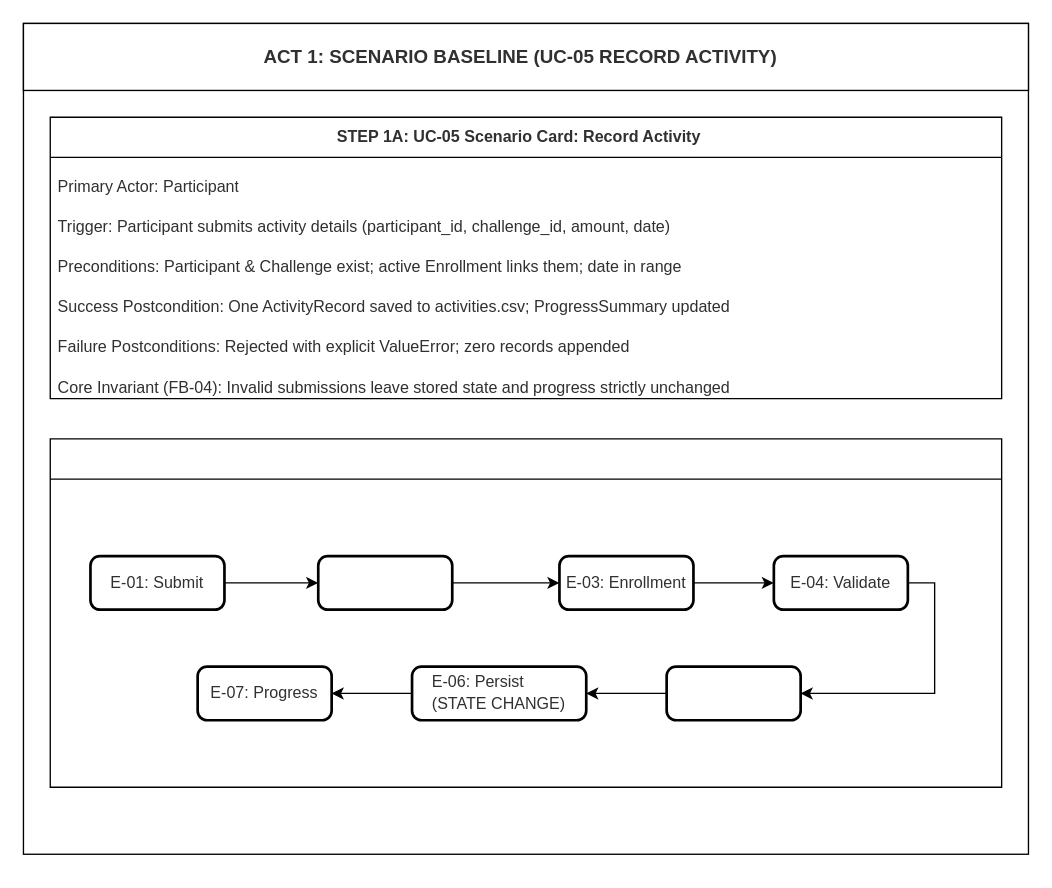
Some shapes in this 1052 by 888 pixel diagram are drawn without their labels. The box of each missing label's shape, as (x1, y1, x2, y2) in pixels:
E-02: Locate: (316, 554, 453, 610)
E-05: Create: (665, 665, 801, 721)
STEP 1B: Chronological Event Inventory: (49, 438, 1002, 787)
